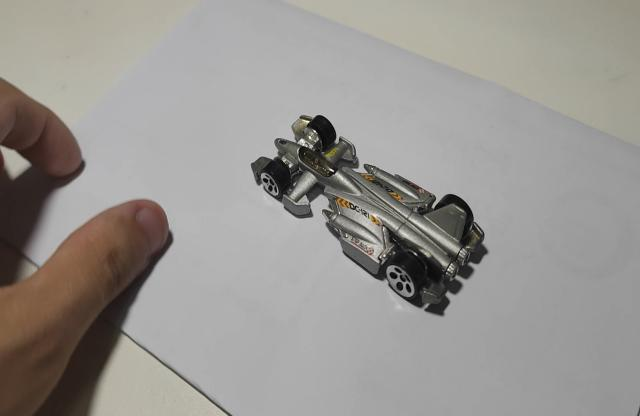05_DC121: (250, 116, 490, 317)
